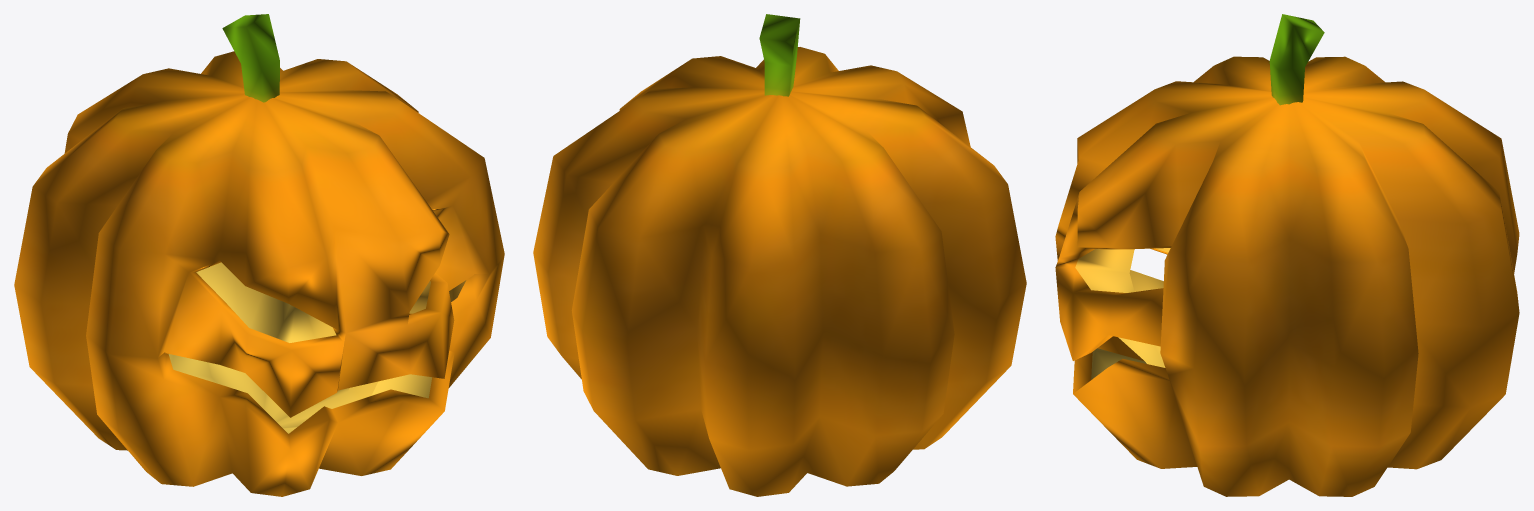
File: Pumpkin.gltf
3 views of the same model, side by side, from view 1: azimuth 30°, elevation 25°; view 2: azimuth 150°, elevation 25°; view 3: azimuth 270°, elevation 25° (orthographic).
Parts seen in each view (by area): view 1: Pumpkin; view 2: Pumpkin; view 3: Pumpkin.
Part boxes in pixels (<box>): Pumpkin: <box>14,14,504,496</box>; Pumpkin: <box>533,14,1026,496</box>; Pumpkin: <box>1055,14,1519,496</box>.
Size of the model in its own units: 3.05 by 3.15 by 3.07.
1 material, 1 textured.
